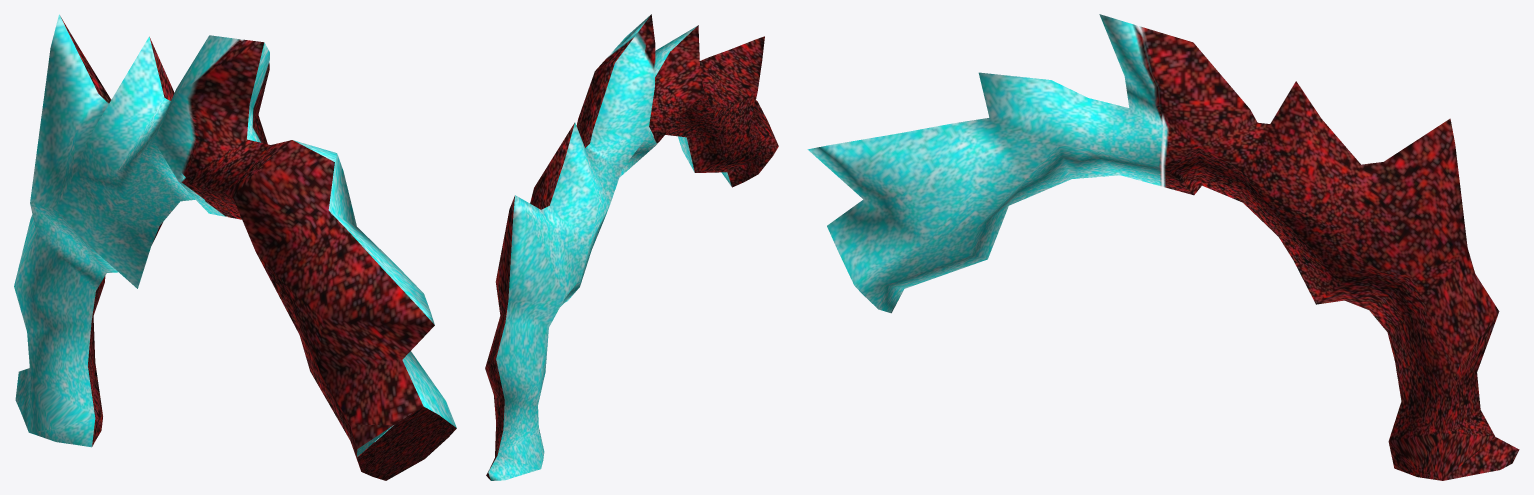
3 views of the same model, side by side, from view 1: azimuth 30°, elevation 25°; view 2: azimuth 150°, elevation 25°; view 3: azimuth 270°, elevation 25° (orthographic). The views are drawn at different scales.
Parts seen in each view (by area): view 1: SM_VFX_Chakrams_Kothaar_1H_01_Part1_LOD0; view 2: SM_VFX_Chakrams_Kothaar_1H_01_Part1_LOD0; view 3: SM_VFX_Chakrams_Kothaar_1H_01_Part1_LOD0.
Part boxes in pixels (left/top/right/bottom): SM_VFX_Chakrams_Kothaar_1H_01_Part1_LOD0: left=14, top=14, right=456, bottom=480; SM_VFX_Chakrams_Kothaar_1H_01_Part1_LOD0: left=485, top=14, right=778, bottom=480; SM_VFX_Chakrams_Kothaar_1H_01_Part1_LOD0: left=807, top=14, right=1519, bottom=480.
Bounding box in the file's own units: 0.0523 × 0.2406 × 0.3416.
Materials: 1 (1 with a texture image).
